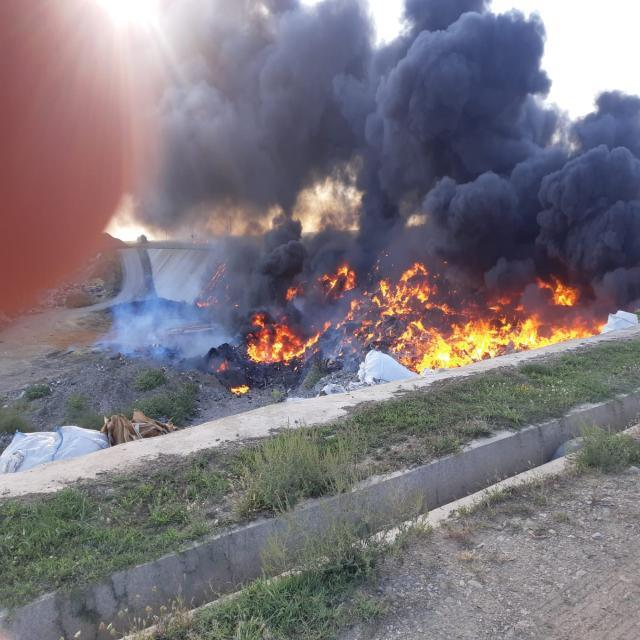Fire: (406, 274, 586, 378), (236, 317, 326, 369)
Smoke: (156, 2, 636, 330)
